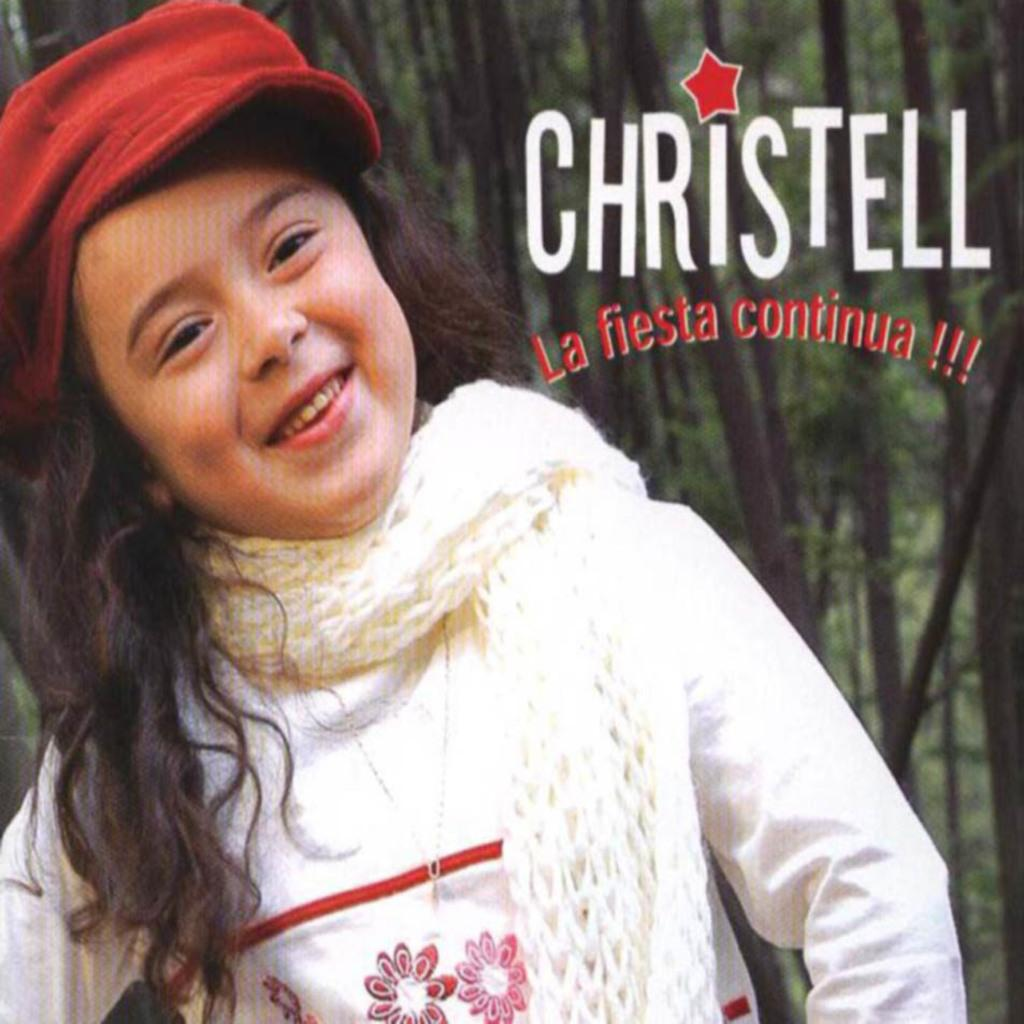Hat: (0, 0, 381, 473)
